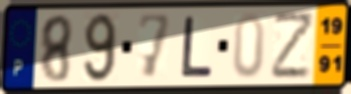0: (231, 11, 268, 81)
7: (136, 12, 172, 82)
8: (38, 13, 75, 84)
9: (81, 11, 121, 85)
L: (178, 15, 214, 79)
Z: (270, 9, 317, 81)
